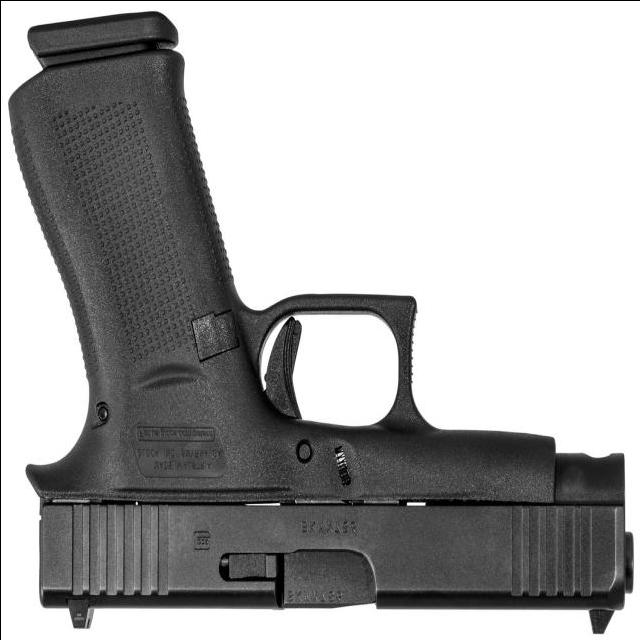pistol: (13, 1, 640, 632)
